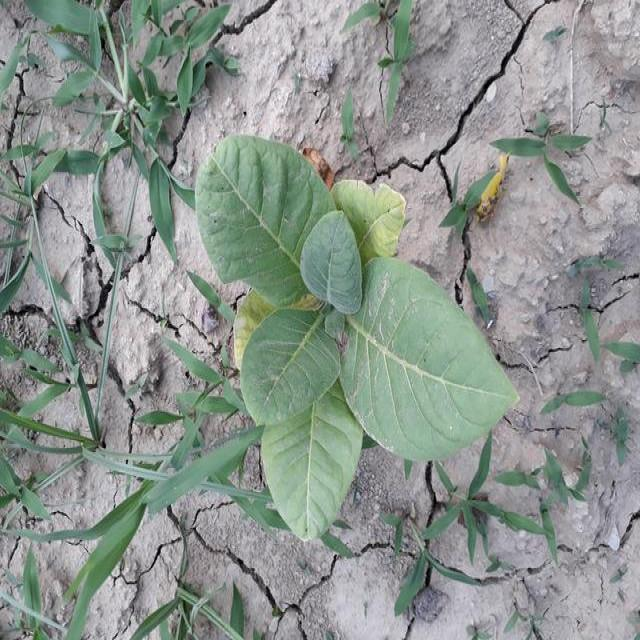crop: (195, 132, 524, 544)
